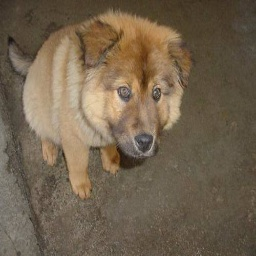dog: (5, 9, 189, 201)
